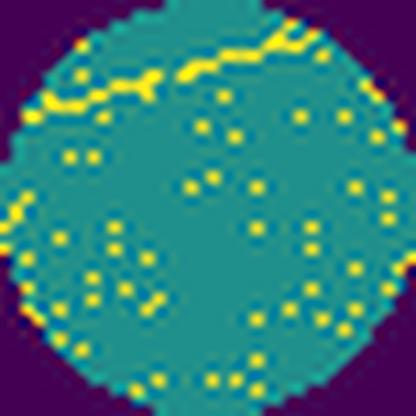Scratch: (170, 13, 319, 90), (42, 68, 167, 120)
